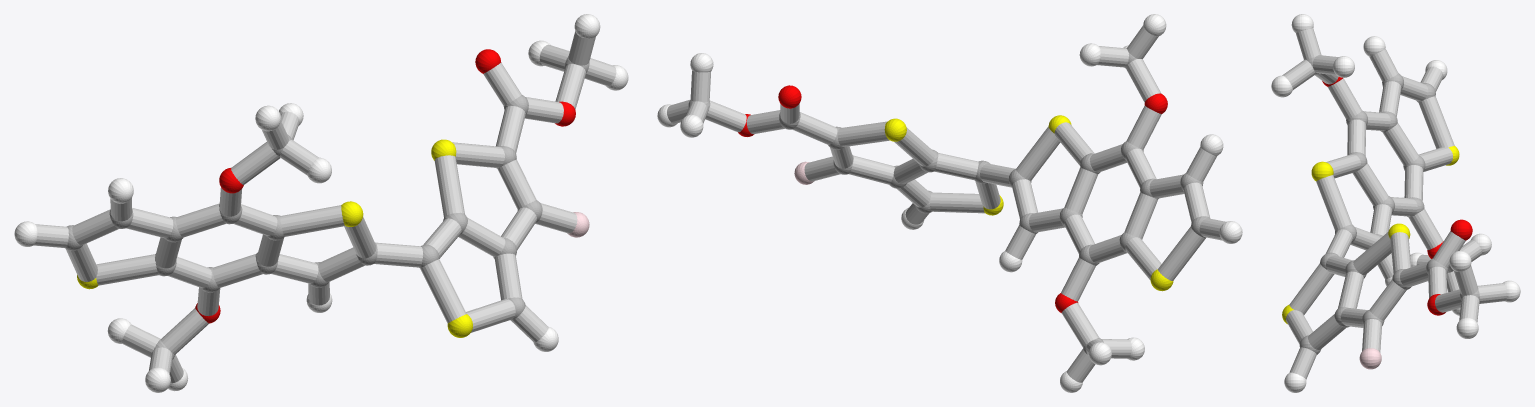
File: Dimethoxy_Benzodithiophene_Phi_20_Theta_280_Methylcarbonyl_3_Fluoro_Thienothiophene.glb
3 renders of one model, left to right at view 1: azimuth 30°, elevation 25°; view 2: azimuth 150°, elevation 25°; view 3: azimuth 270°, elevation 25°, orthographic. The views are drawn at different scales.
Visible parts, largest first — view 1: grp15205, grp8689, grp1, grp7241, grp13395; view 2: grp15205, grp8689, grp1, grp13395, grp7241; view 3: grp15205, grp8689, grp1, grp7241, grp13395, grp14843.
Boxes of the visible parts, <box> form: grp15205: <box>34,31,616,383</box>; grp8689: <box>14,14,628,392</box>; grp1: <box>65,56,589,359</box>; grp7241: <box>77,139,472,337</box>; grp13395: <box>195,49,575,323</box>; grp15205: <box>667,25,1226,382</box>; grp8689: <box>657,14,1242,392</box>; grp1: <box>688,48,1209,354</box>; grp13395: <box>738,85,1167,312</box>; grp7241: <box>884,115,1173,291</box>; grp15205: <box>1282,28,1506,379</box>; grp8689: <box>1271,14,1520,392</box>; grp1: <box>1299,57,1479,354</box>; grp7241: <box>1282,146,1459,324</box>; grp13395: <box>1322,77,1472,315</box>; grp14843: <box>1359,348,1381,369</box>.
Bounding box in the file's own units: 16.86 × 8.99 × 6.76.
